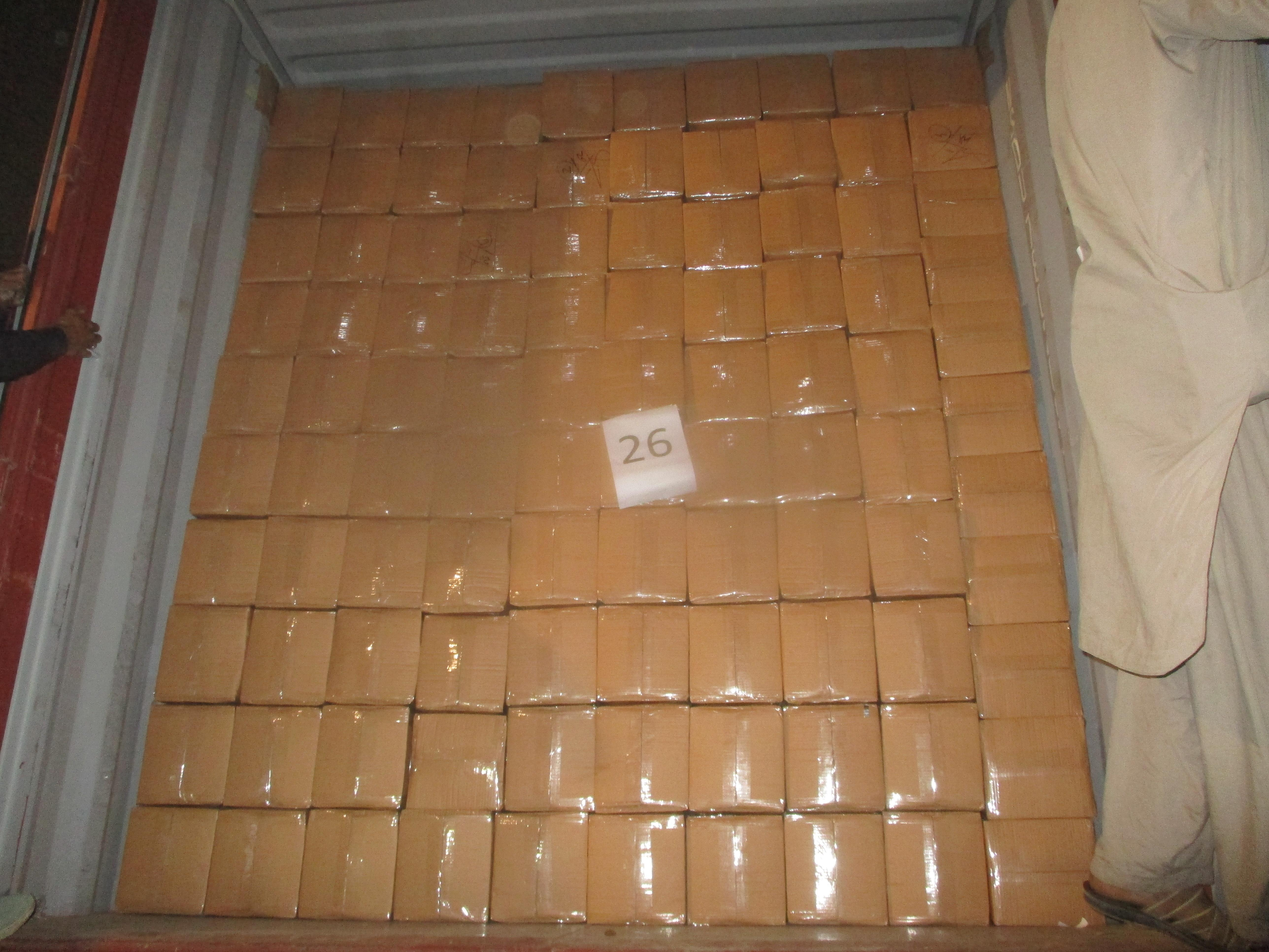carton: (983, 818, 1098, 926), (979, 716, 1096, 819), (883, 811, 989, 924), (784, 812, 887, 925), (879, 702, 983, 811), (205, 808, 308, 918), (298, 808, 399, 920), (115, 806, 218, 915), (393, 810, 494, 921), (685, 813, 785, 925), (782, 703, 884, 812), (587, 813, 686, 924), (968, 622, 1082, 718), (872, 596, 974, 702), (490, 812, 588, 922), (688, 704, 785, 812), (594, 703, 689, 813), (311, 704, 410, 809), (779, 599, 878, 703), (223, 705, 321, 809), (864, 500, 966, 599), (960, 533, 1069, 625), (406, 712, 507, 811), (137, 704, 234, 806), (775, 499, 871, 600), (504, 705, 595, 811), (325, 608, 423, 706), (688, 603, 783, 704), (951, 451, 1058, 539), (155, 605, 251, 703), (239, 608, 335, 705), (686, 505, 779, 604), (596, 604, 689, 703), (416, 613, 508, 713), (506, 605, 597, 706), (938, 373, 1044, 459), (856, 411, 954, 502), (597, 505, 687, 604), (508, 510, 599, 607), (255, 516, 348, 610), (422, 518, 511, 613), (768, 412, 863, 501), (927, 299, 1032, 378), (337, 518, 428, 609), (173, 518, 266, 606), (515, 425, 608, 513), (848, 329, 940, 415), (766, 330, 855, 416), (429, 434, 518, 518), (189, 434, 279, 517), (268, 433, 357, 516), (840, 254, 930, 334), (348, 432, 431, 518), (919, 235, 1020, 305), (685, 422, 769, 506), (205, 356, 294, 435), (684, 340, 770, 421), (603, 423, 685, 507), (762, 254, 847, 334), (283, 354, 369, 433), (360, 356, 447, 433), (602, 340, 684, 421), (523, 347, 602, 430), (914, 169, 1008, 238), (442, 356, 524, 435), (682, 266, 766, 343), (223, 281, 308, 356), (835, 183, 921, 257), (525, 274, 606, 352), (448, 279, 528, 357), (297, 282, 381, 356), (759, 185, 841, 260), (604, 267, 684, 342), (830, 112, 912, 185), (907, 105, 996, 172), (373, 283, 453, 357), (755, 117, 837, 188), (311, 214, 394, 283), (530, 204, 608, 277), (239, 214, 321, 283), (682, 127, 760, 199), (683, 198, 762, 269), (251, 146, 332, 215), (608, 198, 685, 270), (685, 57, 762, 129), (609, 128, 684, 201), (831, 47, 911, 115), (456, 210, 532, 281), (321, 146, 400, 214), (385, 214, 461, 284), (536, 137, 610, 208), (392, 145, 468, 214), (757, 54, 836, 119), (541, 69, 613, 140), (906, 47, 988, 109), (463, 144, 537, 211), (267, 85, 343, 147), (613, 67, 686, 131), (402, 86, 476, 147), (335, 88, 409, 148), (472, 84, 541, 146)
